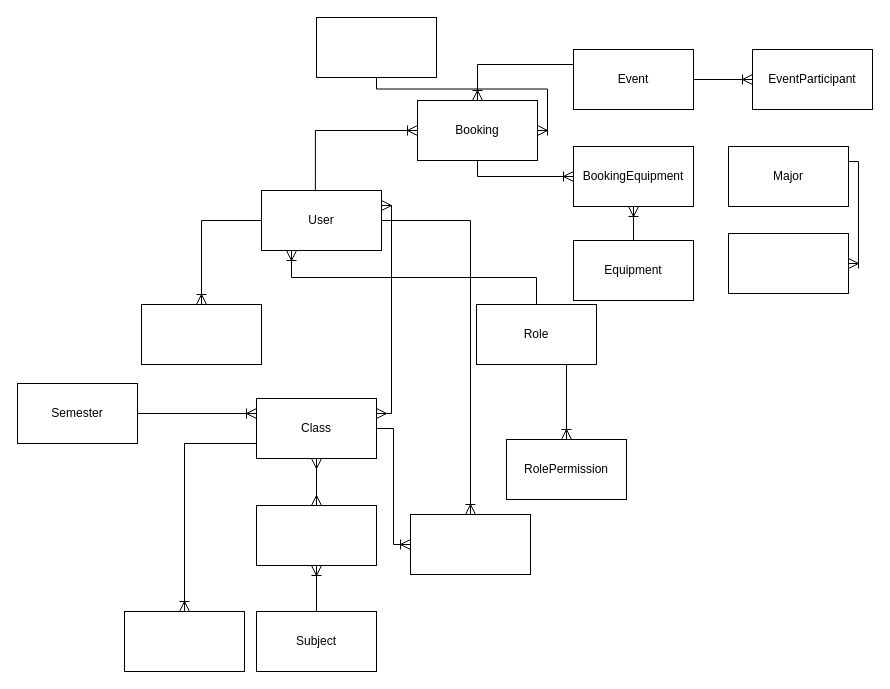
Image size: 890x689. Some labels were removed from this diagram. The shapes that lost their labels are listed below. From the top down, each one's centre as x and y in pixels, then its label:
the point at 376,47: Room
the point at 788,263: Major(child)
the point at 201,334: Notification
the point at 316,535: Course
the point at 470,544: Enrollment
the point at 184,641: Group
